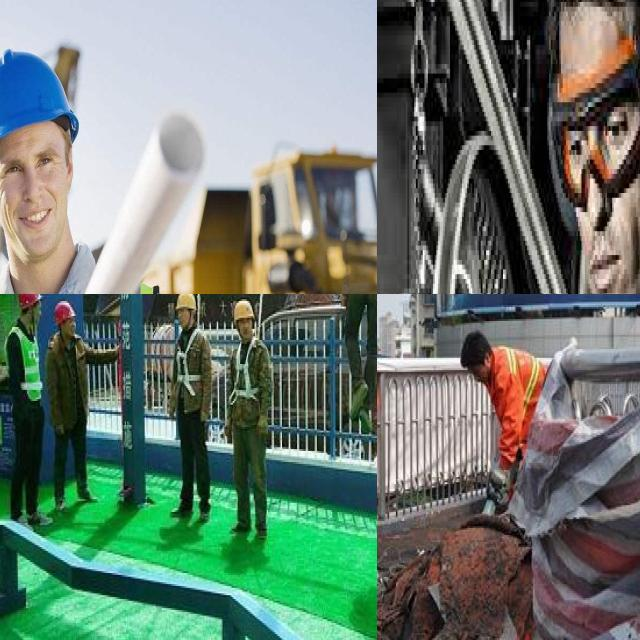Ear-protection: (536, 0, 640, 203)
No_Ear-Protection: (61, 136, 75, 197)
No_Glasses: (0, 146, 79, 185)
face_nomask: (0, 132, 81, 251), (467, 360, 489, 394), (177, 306, 194, 331), (29, 301, 47, 323), (238, 314, 253, 340), (62, 316, 81, 334)
hand_glove: (486, 461, 508, 505), (254, 414, 272, 443), (223, 410, 234, 440), (339, 294, 347, 306)
head_helmet: (0, 40, 82, 170), (230, 298, 258, 322), (54, 300, 79, 322), (173, 294, 197, 315), (16, 294, 44, 310)
head_nohelmet: (457, 323, 490, 361)
person: (0, 43, 222, 294), (220, 296, 274, 540), (162, 294, 218, 515), (1, 294, 53, 527), (48, 299, 96, 505), (464, 330, 542, 433), (345, 294, 377, 423)
shoes: (25, 506, 56, 530), (76, 483, 98, 508), (228, 517, 254, 537), (170, 498, 193, 520)
vest: (6, 323, 45, 401), (500, 349, 539, 412)
